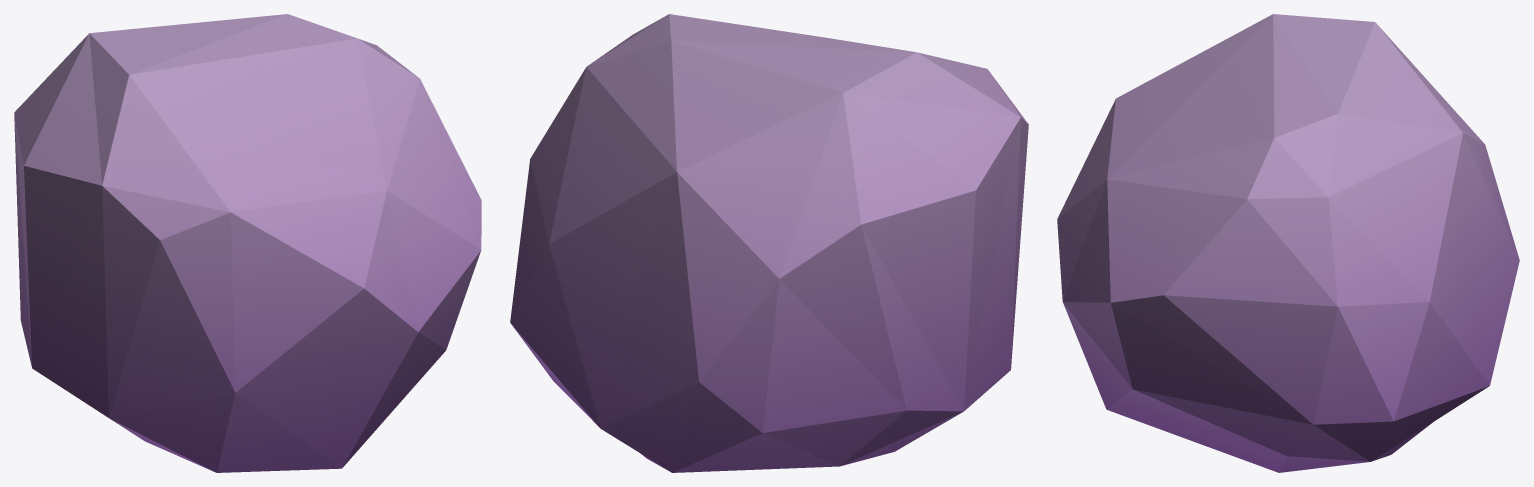
Rendered from Night_Stone_002.FBX.
3 renders of one model, left to right at view 1: azimuth 30°, elevation 25°; view 2: azimuth 150°, elevation 25°; view 3: azimuth 270°, elevation 25°, orthographic. The views are drawn at different scales.
Parts seen in each view (by area): view 1: Night_Stone_002; view 2: Night_Stone_002; view 3: Night_Stone_002.
Boxes of the visible parts, left/top/right/bottom form: Night_Stone_002: left=14, top=14, right=481, bottom=472; Night_Stone_002: left=510, top=14, right=1028, bottom=472; Night_Stone_002: left=1057, top=14, right=1519, bottom=472.
Size of the model in its own units: 255 by 237 by 269.
Materials: 1 (1 with a texture image).
